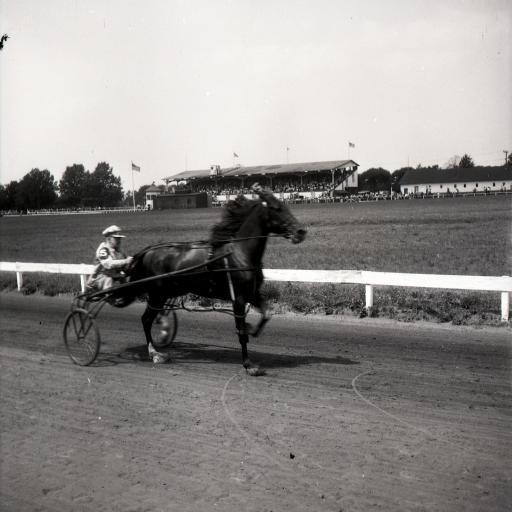horse: (131, 182, 307, 376)
